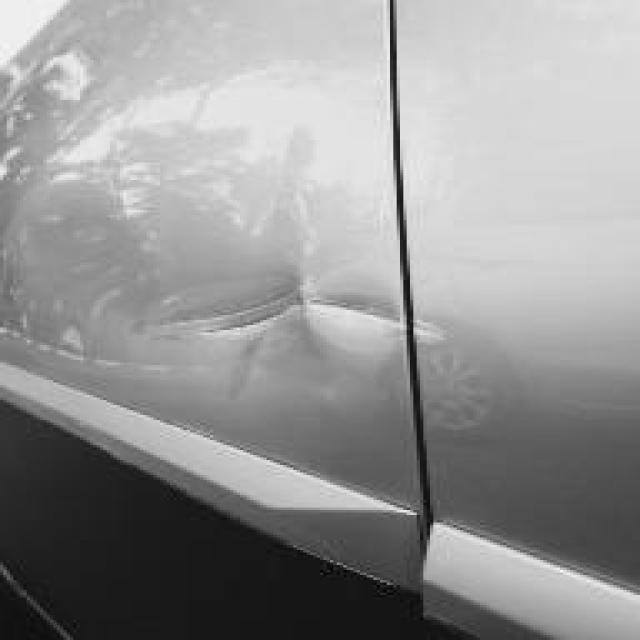Door: (83, 80, 527, 480)
